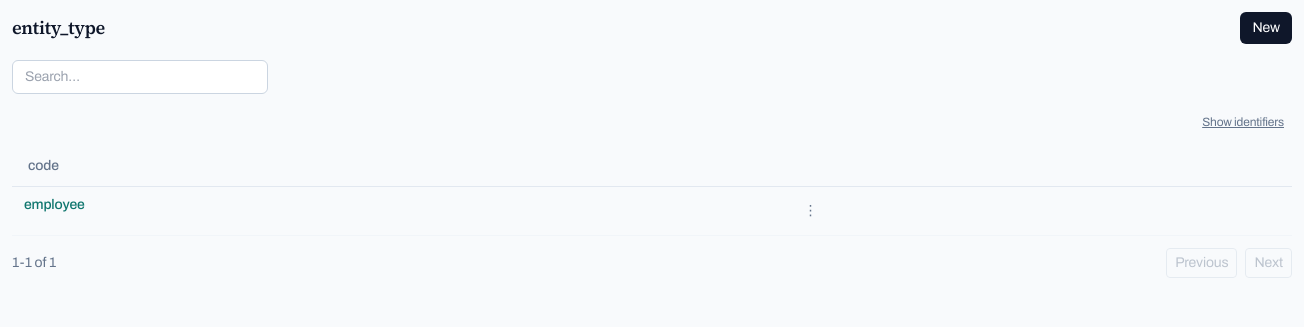
Test: EntityList › shows the formatted error above the table when delete fails
This screenshot has width=1304, height=327.
// The card layout (G-4) renders an equivalent trigger -- scope to the table.
Click the button with test id "row-actions". click: (810, 211)
box: [794, 195, 826, 227]
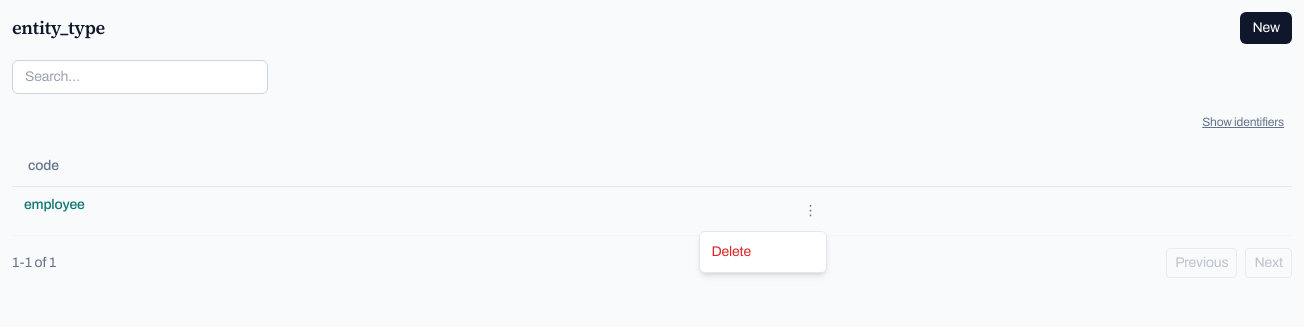
Click the menu item "Delete". click: (762, 252)
box: [700, 236, 826, 268]
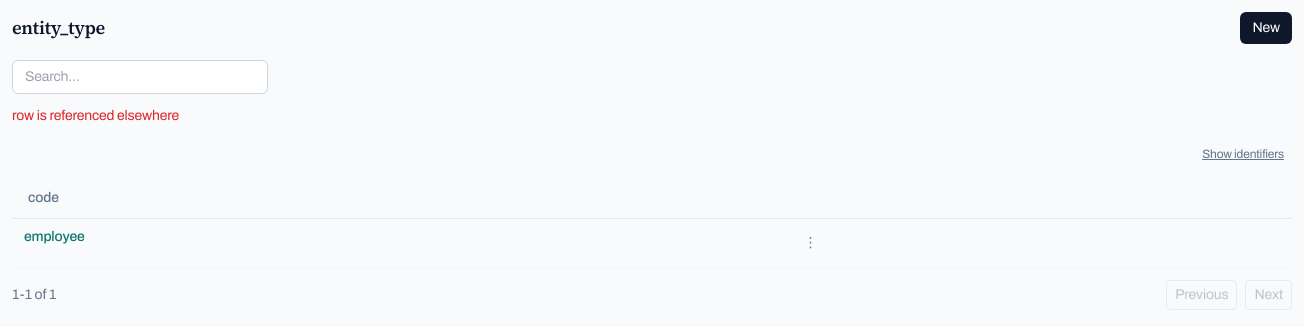
Now the text "row is referenced elsewhere" is shown, box [12, 108, 179, 123]
